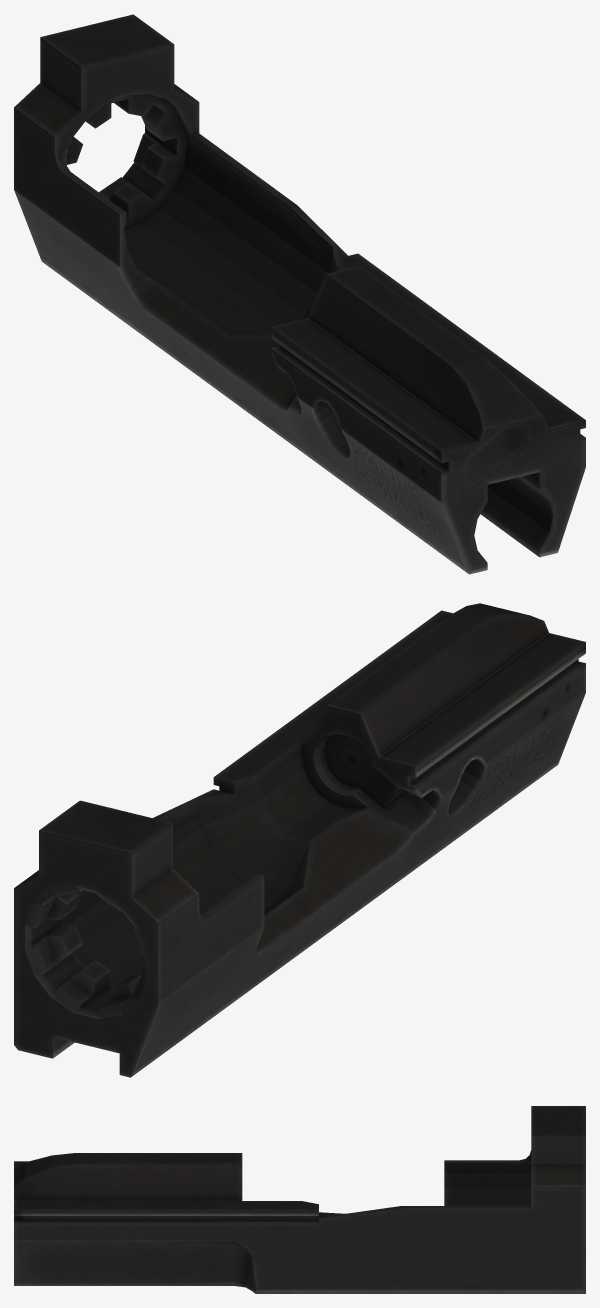
3 views of the same model, one above another, from view 1: azimuth 30°, elevation 25°; view 2: azimuth 150°, elevation 25°; view 3: azimuth 270°, elevation 25° (orthographic). The views are drawn at different scales.
Visible parts, largest first — view 1: TW_5e00903ae9dc277128008b87_PZ_Import; view 2: TW_5e00903ae9dc277128008b87_PZ_Import; view 3: TW_5e00903ae9dc277128008b87_PZ_Import.
Part boxes in pixels (x1,y1,x2,y2): TW_5e00903ae9dc277128008b87_PZ_Import: (14, 14, 585, 574); TW_5e00903ae9dc277128008b87_PZ_Import: (14, 603, 585, 1077); TW_5e00903ae9dc277128008b87_PZ_Import: (14, 1106, 585, 1293).
Bounding box in the file's own units: 0.0149 × 0.0766 × 0.0222.
Materials: 1 (1 with a texture image).
